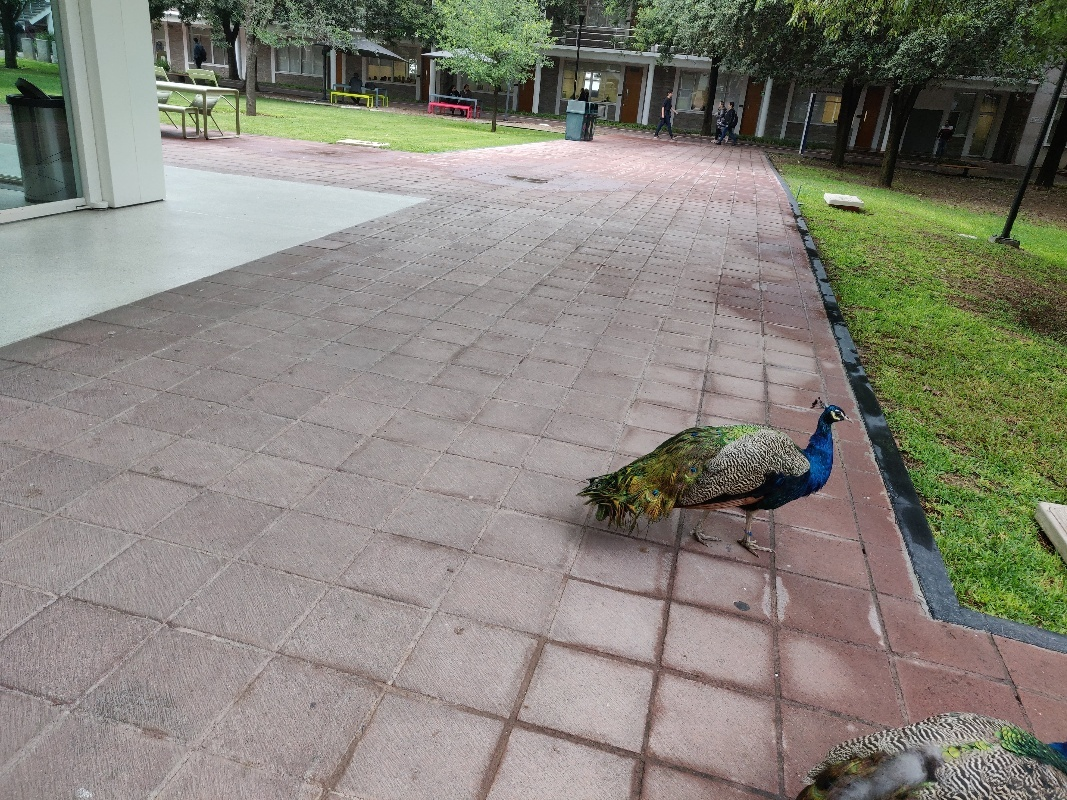pavoreal: (600, 392, 852, 559)
